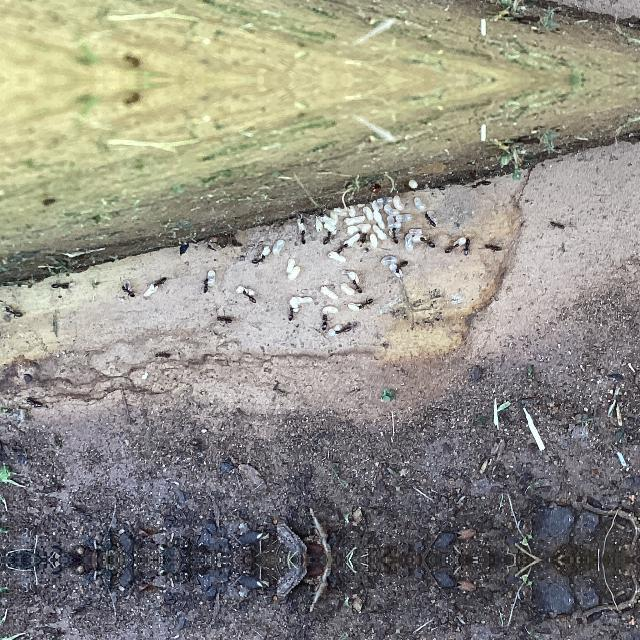Tapinoma: (120, 281, 140, 299), (390, 258, 410, 276), (386, 225, 402, 245), (1, 305, 23, 319), (460, 234, 474, 256), (354, 296, 376, 310), (334, 322, 356, 336), (241, 287, 259, 303), (469, 178, 493, 190), (423, 210, 439, 228), (417, 234, 437, 248), (248, 252, 268, 266), (200, 274, 214, 294), (24, 396, 46, 408), (482, 240, 504, 252), (349, 278, 365, 294), (152, 276, 170, 290), (443, 240, 461, 254), (294, 227, 308, 245), (284, 304, 298, 322), (334, 239, 352, 253), (50, 280, 74, 290), (548, 218, 568, 230), (320, 230, 334, 246), (424, 182, 446, 192), (213, 314, 234, 324), (318, 314, 330, 331), (154, 349, 174, 359)
